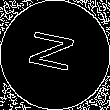N_E: (26, 30, 84, 80)
